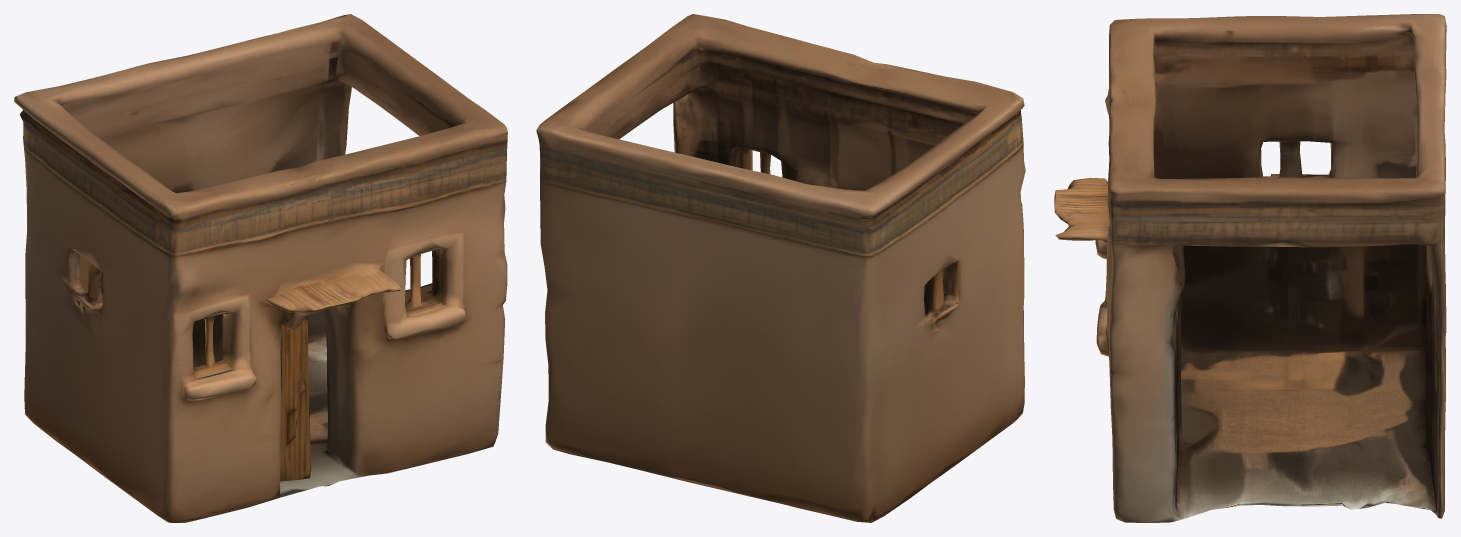
Rendered from house.glb.
3 renders of one model, left to right at view 1: azimuth 30°, elevation 25°; view 2: azimuth 150°, elevation 25°; view 3: azimuth 270°, elevation 25°, orthographic. The views are drawn at different scales.
Visible parts, largest first — view 1: geometry_0; view 2: geometry_0; view 3: geometry_0.
Boxes of the visible parts, x1=… form: geometry_0: x1=14, y1=14, x2=507, y2=522; geometry_0: x1=536, y1=14, x2=1025, y2=522; geometry_0: x1=1054, y1=14, x2=1446, y2=522.
Bounding box in the file's own units: 1 × 0.8938 × 0.9276.
1 material, 1 textured.
